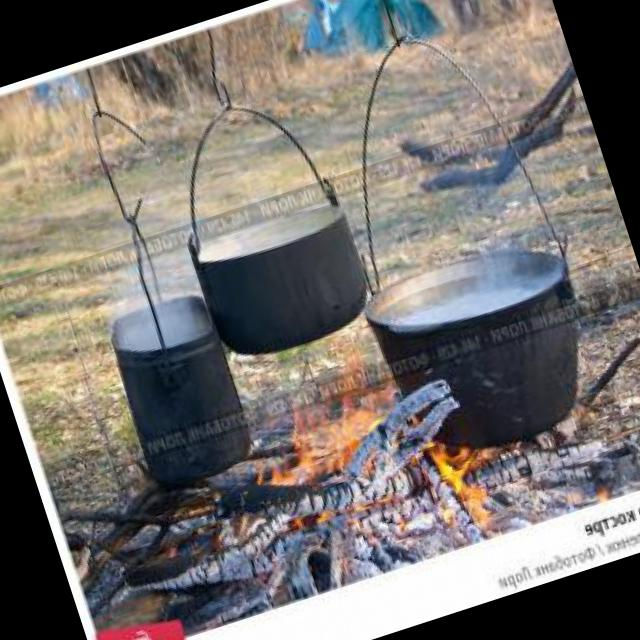fire: (215, 368, 496, 596)
smoke: (78, 192, 220, 371)
